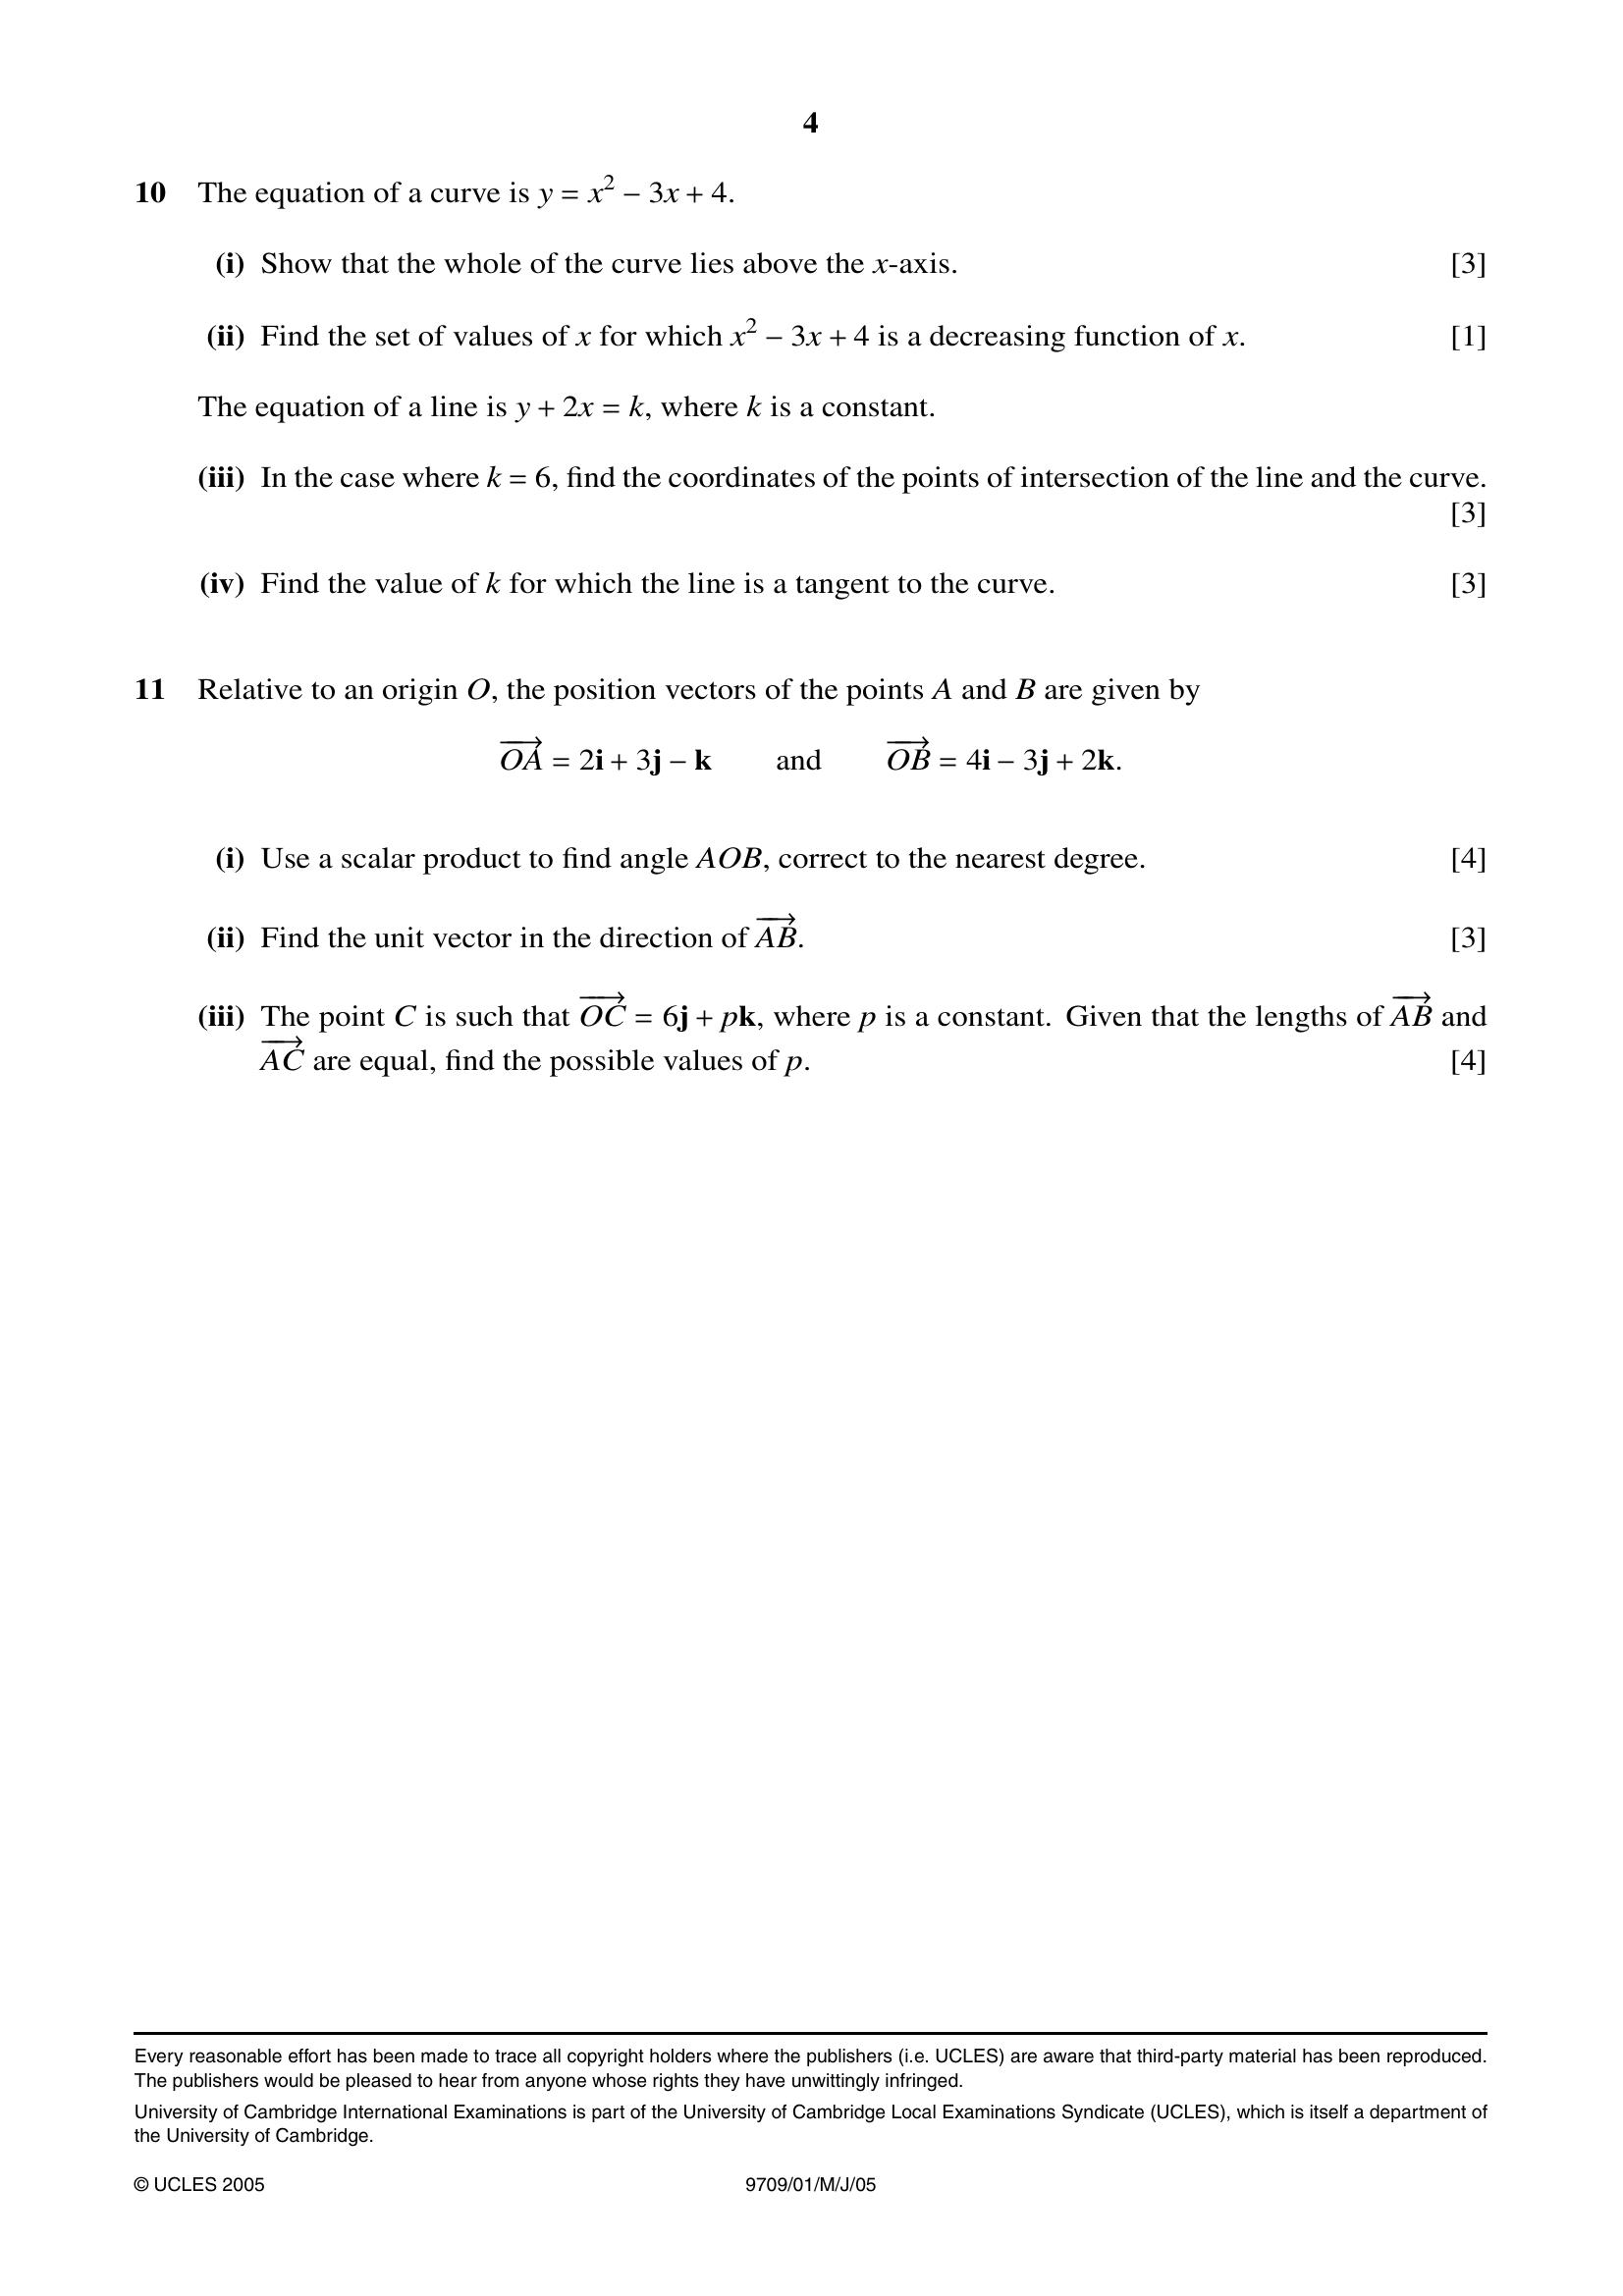question: (7, 667, 1621, 1215), (2, 151, 1623, 648)
